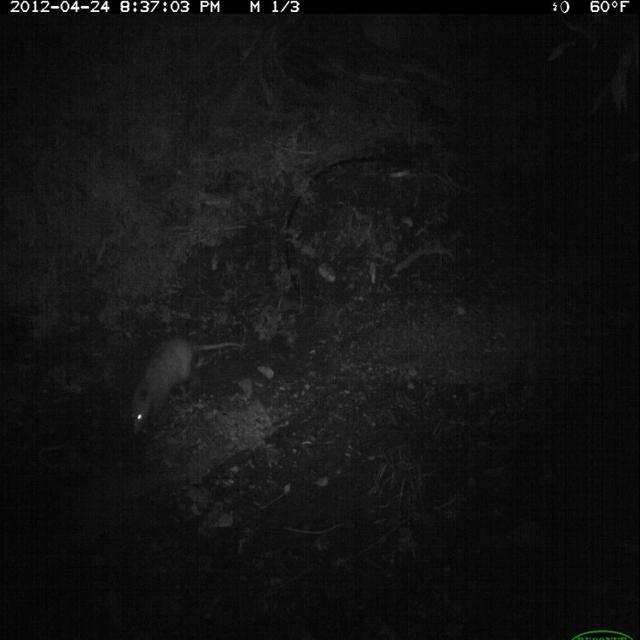opossum: (110, 324, 249, 453)
